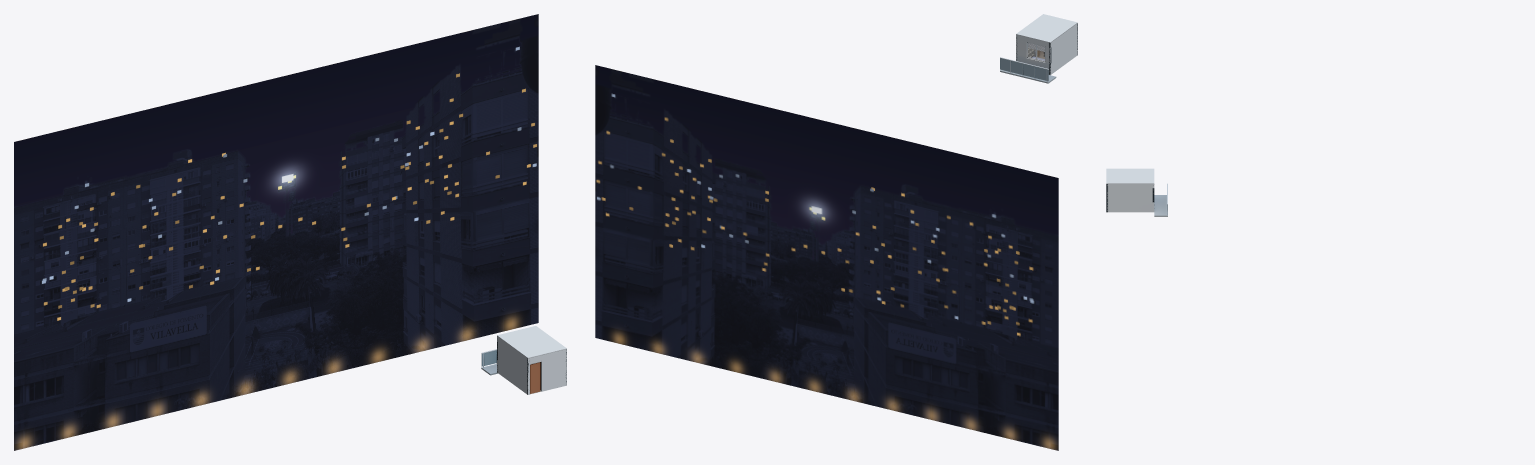
The model's file is cuarto.gltf.
3 views of the same model, side by side, from view 1: azimuth 30°, elevation 25°; view 2: azimuth 150°, elevation 25°; view 3: azimuth 270°, elevation 25° (orthographic). The views are drawn at different scales.
Visible parts, largest first — view 1: paisaje, paredes, techo; view 2: paisaje, paredes, techo, exterior; view 3: paredes, techo.
Boxes of the visible parts, bbox=[...] form: paisaje: bbox=[14, 14, 538, 450]; paredes: bbox=[497, 336, 566, 394]; techo: bbox=[497, 326, 566, 358]; paisaje: bbox=[595, 65, 1058, 450]; paredes: bbox=[1016, 23, 1077, 75]; techo: bbox=[1016, 14, 1077, 42]; exterior: bbox=[1000, 57, 1056, 83]; paredes: bbox=[1106, 184, 1154, 212]; techo: bbox=[1106, 168, 1154, 183].
Bounding box in the file's own units: 38.2 × 21.5 × 33.78.
8 materials, 5 textured.
